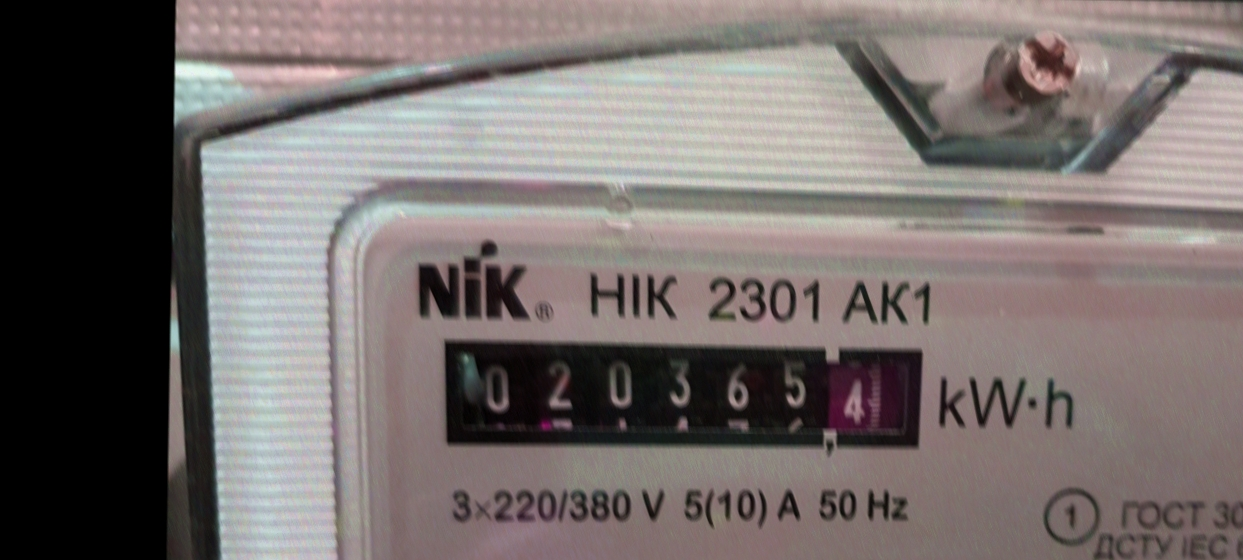0: (480, 360, 514, 415), (605, 359, 636, 409)
2: (544, 358, 575, 409)
3: (665, 358, 694, 407)
4: (841, 375, 865, 424)
5: (782, 360, 809, 407)
6: (724, 359, 750, 410)
screen: (429, 322, 938, 468)
